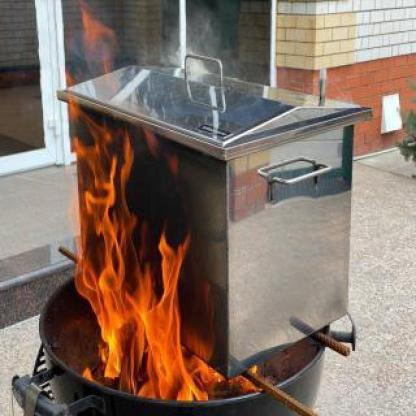fire: (57, 64, 194, 398)
